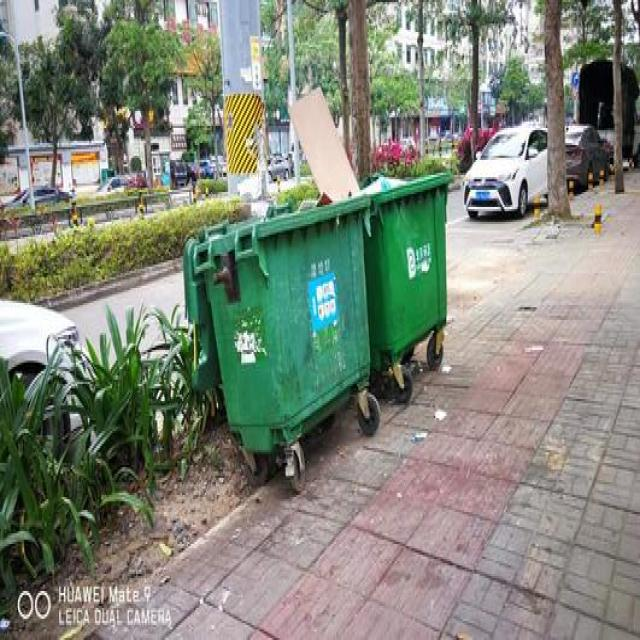garbage_bin: (182, 194, 369, 450)
overflow: (288, 83, 452, 367)
